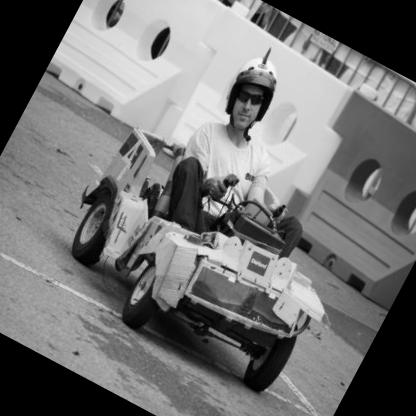car: (15, 80, 388, 416)
